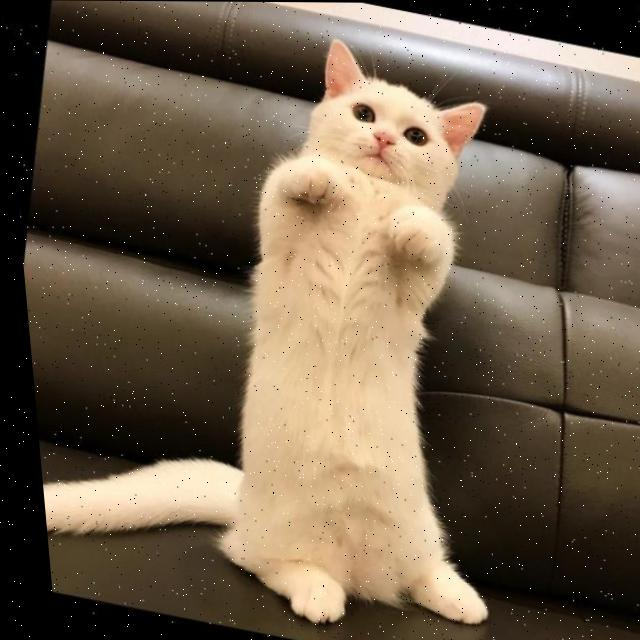Cats: (1, 0, 595, 640)
